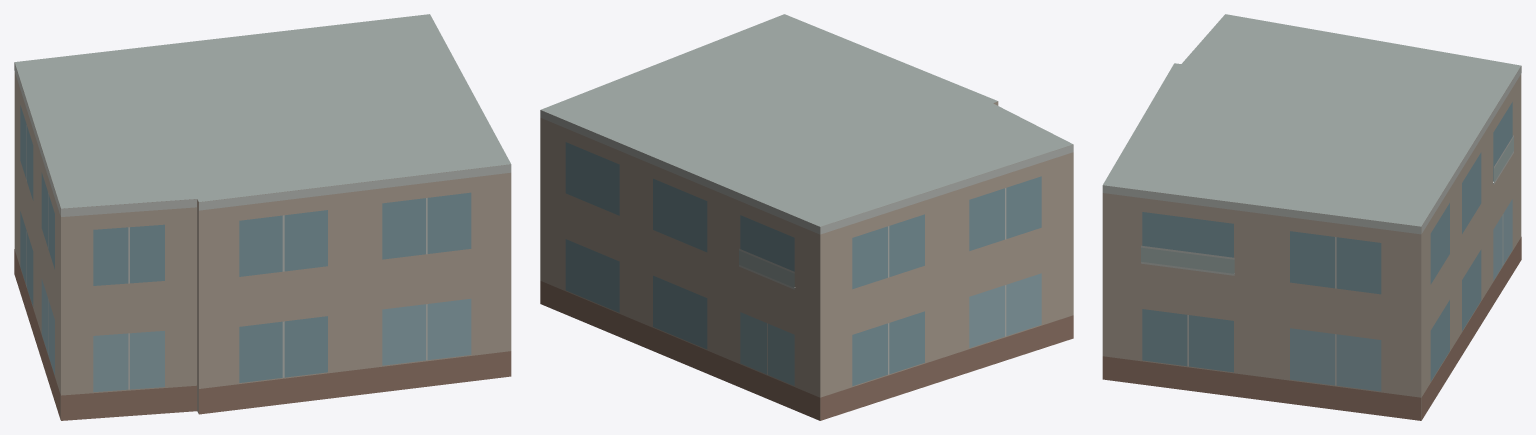
Rendered from survey-upis-32650013.glb.
3 views of the same model, side by side, from view 1: azimuth 30°, elevation 25°; view 2: azimuth 150°, elevation 25°; view 3: azimuth 270°, elevation 25° (orthographic). The views are drawn at different scales.
Parts seen in each view (by area): view 1: survey-upis-32650013.tmp; view 2: survey-upis-32650013.tmp; view 3: survey-upis-32650013.tmp.
Boxes of the visible parts, x1,y1,x2,y2 form: survey-upis-32650013.tmp: [14, 14, 511, 420]; survey-upis-32650013.tmp: [540, 14, 1073, 420]; survey-upis-32650013.tmp: [1102, 14, 1521, 420].
Size of the model in its own units: 14.33 by 6.1 by 11.93.
